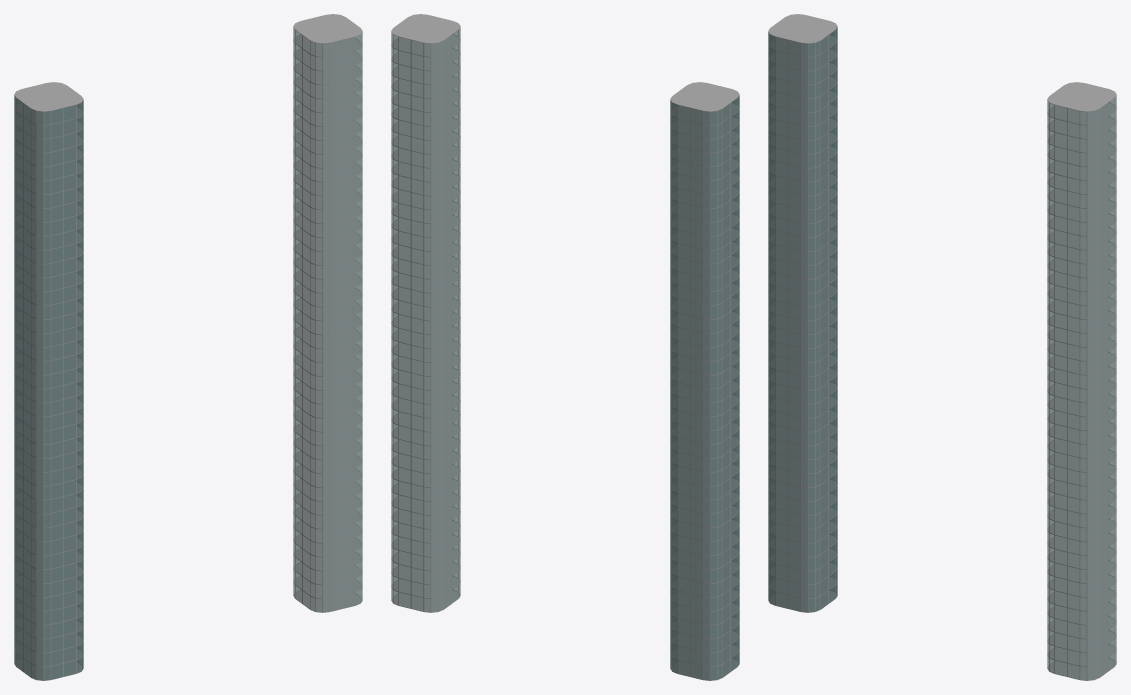
File: Skyscrapers.fbx
The picture shows the model from 3 angles, left to right: view 1: azimuth 30°, elevation 25°; view 2: azimuth 150°, elevation 25°; view 3: azimuth 330°, elevation 25°; orthographic projection.
Visible parts, largest first — view 1: pCube52, pCube16, pCube25, pCube34, pCube33, pCube26, pCube51, pCube35, pCube44, pCube50, pCube42, pCube27 (+63 smaller); view 2: pCube52, pCube51, pCube16, pCube34, pCube25, pCube42, pCube33, pCube26, pCube44, pCube35, pCube17, pCube27 (+60 smaller); view 3: pCube52, pCube15, pCube33, pCube34, pCube24, pCube43, pCube42, pCube51, pCube50, pCube41, pCube25, pCube32 (+62 smaller).
Boxes of the visible parts, x1,y1,x2,y2 form: pCube52: (293, 14, 362, 57); pCube16: (293, 520, 362, 557); pCube25: (293, 395, 362, 432); pCube34: (293, 270, 362, 307); pCube33: (293, 284, 362, 321); pCube26: (293, 382, 362, 418); pCube51: (293, 34, 362, 71); pCube35: (293, 257, 362, 293); pCube44: (293, 132, 362, 168); pCube50: (293, 48, 362, 84); pCube42: (293, 159, 362, 196); pCube27: (293, 368, 362, 404); pCube52: (391, 14, 460, 57); pCube51: (391, 34, 460, 71); pCube16: (391, 520, 460, 557); pCube34: (391, 270, 460, 307); pCube25: (391, 395, 460, 432); pCube42: (391, 159, 460, 196); pCube33: (391, 284, 460, 321); pCube26: (391, 382, 460, 418); pCube44: (391, 132, 460, 168); pCube35: (391, 257, 460, 293); pCube17: (391, 507, 460, 543); pCube27: (391, 368, 460, 404); pCube52: (1047, 82, 1116, 125); pCube15: (1047, 602, 1116, 639); pCube33: (1047, 352, 1116, 389); pCube34: (1047, 339, 1116, 375); pCube24: (1047, 477, 1116, 514); pCube43: (1047, 214, 1116, 250); pCube42: (1047, 227, 1116, 264); pCube51: (1047, 102, 1116, 139); pCube50: (1047, 116, 1116, 153); pCube41: (1047, 241, 1116, 278); pCube25: (1047, 464, 1116, 500); pCube32: (1047, 366, 1116, 403).
Bounding box in the file's own units: 7.38 × 12.18 × 1.15.
